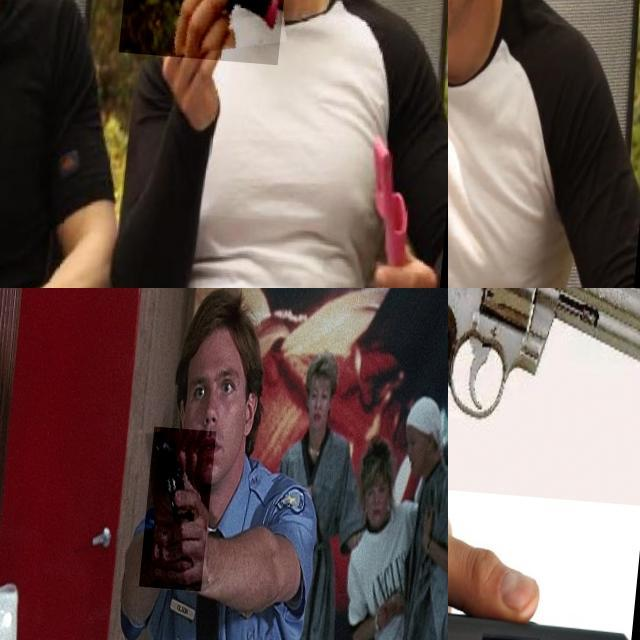-: (126, 0, 296, 80), (448, 47, 489, 260)
gun-knife-thesis - v11 Yolov5 augmented: (448, 288, 640, 482), (448, 288, 611, 479), (146, 422, 220, 586), (448, 590, 639, 640), (448, 509, 468, 577)
